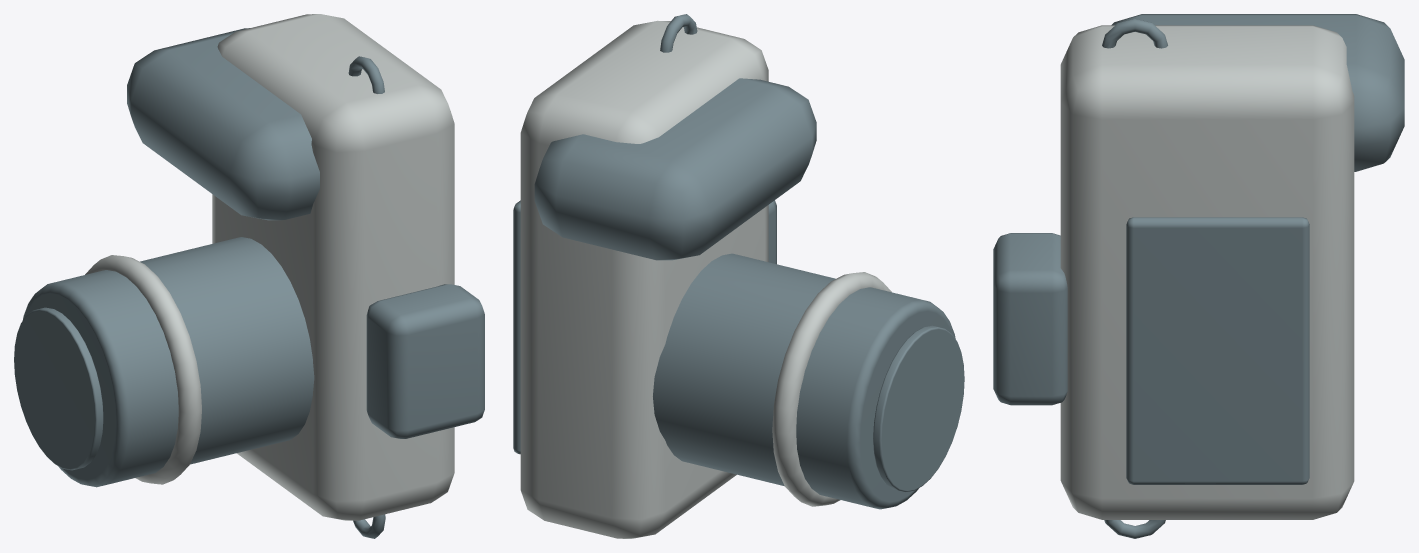
File: camera.glb
The picture shows the model from 3 angles, left to right: view 1: azimuth 30°, elevation 25°; view 2: azimuth 150°, elevation 25°; view 3: azimuth 270°, elevation 25°; orthographic projection. The views are drawn at different scales.
Parts seen in each view (by area): view 1: camera_body, lens_barrel, handgrip, viewfinder, front_glass, focus_ring, strap_eye; view 2: camera_body, lens_barrel, handgrip, front_glass, focus_ring, screen, strap_eye, viewfinder; view 3: camera_body, screen, viewfinder, handgrip, strap_eye, strap_eye.001.
Part boxes in pixels (x1,y1,x2,y2): camera_body: (212,14,454,520); lens_barrel: (22,237,314,487); handgrip: (127,28,319,220); viewfinder: (366,284,484,438); front_glass: (14,307,103,470); focus_ring: (85,255,201,484); strap_eye: (348,56,384,93); camera_body: (520,20,768,538); lens_barrel: (653,253,955,509); handgrip: (534,78,816,260); front_glass: (873,325,964,492); focus_ring: (772,272,891,506); screen: (513,200,520,454); strap_eye: (660,14,697,52); viewfinder: (768,200,776,264); camera_body: (1060,25,1354,519); screen: (1126,217,1309,484); viewfinder: (993,233,1067,405); handgrip: (1111,14,1404,171); strap_eye: (1102,19,1167,48); strap_eye.001: (1104,520,1165,538).
Bounding box in the file's own units: 0.1305 × 0.166 × 0.119.
